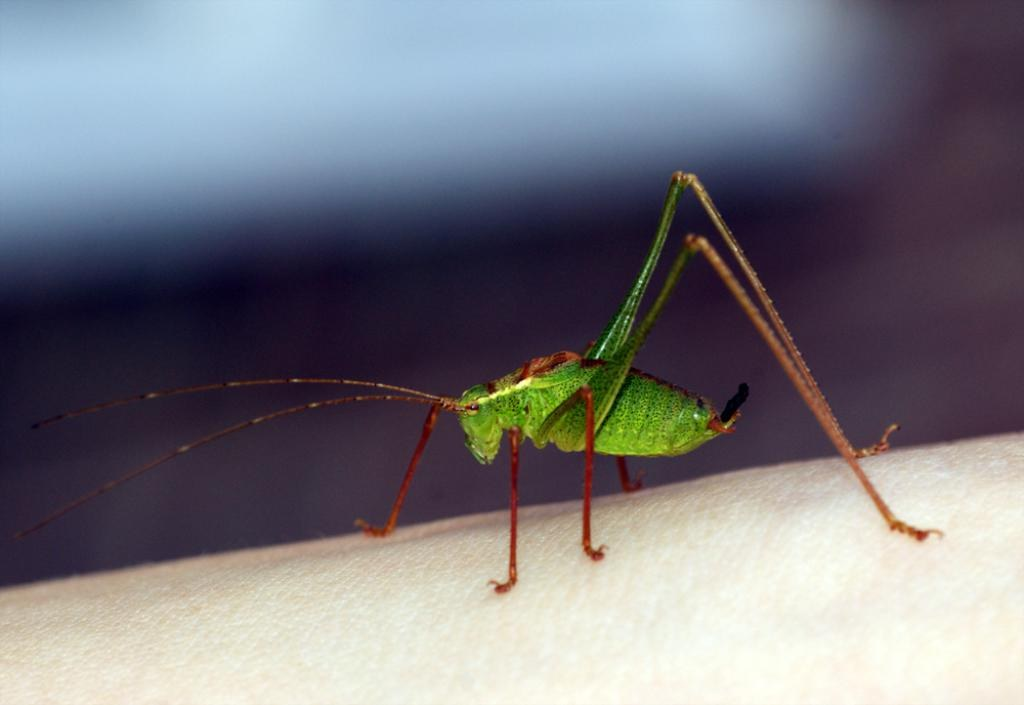insect: (4, 171, 940, 591)
